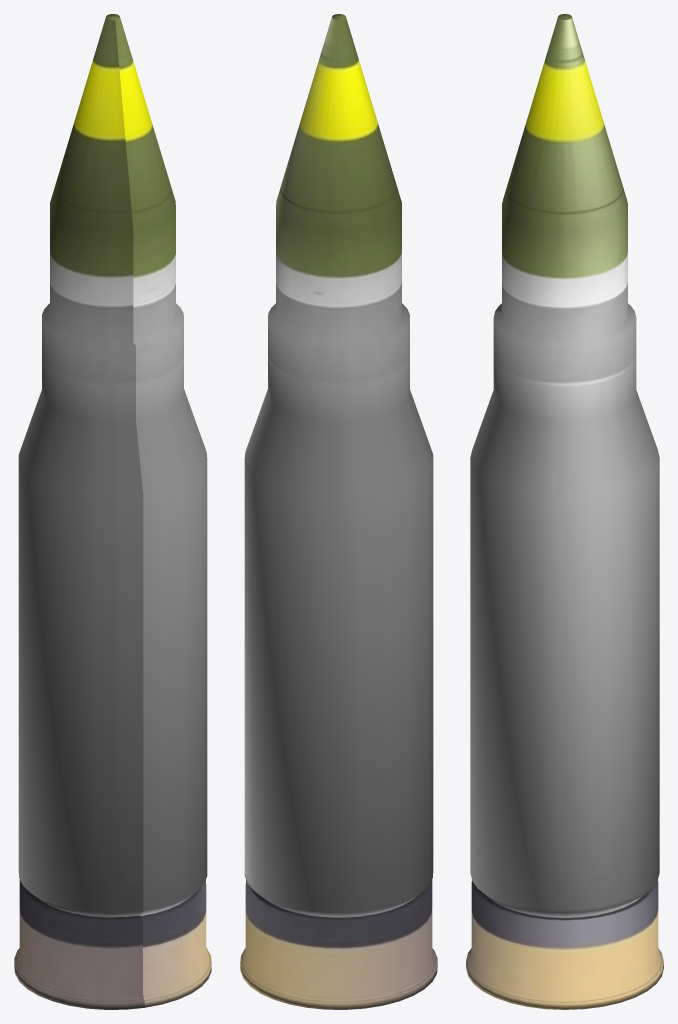
File: ProjectileTank.fbx
The picture shows the model from 3 angles, left to right: view 1: azimuth 30°, elevation 25°; view 2: azimuth 150°, elevation 25°; view 3: azimuth 270°, elevation 25°; orthographic projection.
Visible parts, largest first — view 1: Cylinder; view 2: Cylinder; view 3: Cylinder.
Part boxes in pixels (left/top/right/bottom): Cylinder: left=14, top=14, right=211, bottom=1009; Cylinder: left=240, top=14, right=437, bottom=1009; Cylinder: left=466, top=14, right=663, bottom=1009.
Bounding box in the file's own units: 80.18 × 425 × 80.18.
